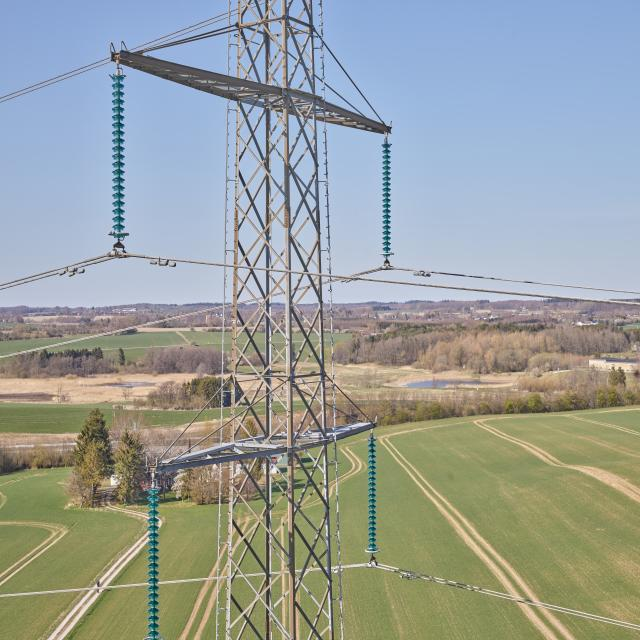杆塔: (214, 0, 346, 640)
正常电缆: (1, 277, 340, 366), (368, 557, 640, 635), (1, 560, 371, 603), (130, 250, 353, 285), (0, 47, 118, 112), (0, 246, 120, 296)
正常绝缘子: (102, 68, 132, 244), (138, 470, 168, 640), (360, 428, 384, 562), (376, 130, 398, 274)
